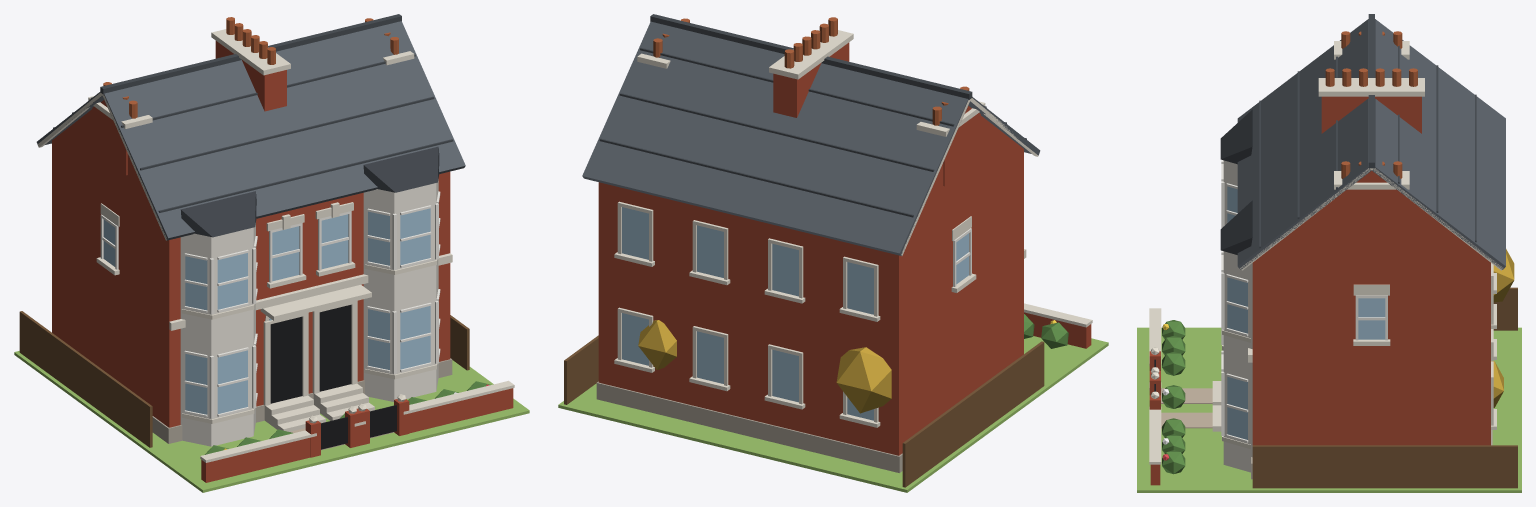
Rendered from MustakilEv_londra_ikiz_1_Hafif.fbx.
3 renders of one model, left to right at view 1: azimuth 30°, elevation 25°; view 2: azimuth 150°, elevation 25°; view 3: azimuth 270°, elevation 25°, orthographic. The views are drawn at different scales.
Parts seen in each view (by area): view 1: MustakilEv_londra_ikiz_1_Hafif; view 2: MustakilEv_londra_ikiz_1_Hafif; view 3: MustakilEv_londra_ikiz_1_Hafif.
Part boxes in pixels (<box>): MustakilEv_londra_ikiz_1_Hafif: <box>14,14,529,492</box>; MustakilEv_londra_ikiz_1_Hafif: <box>558,14,1108,492</box>; MustakilEv_londra_ikiz_1_Hafif: <box>1137,14,1521,492</box>.
Size of the model in its own units: 10 by 9.79 by 10.
